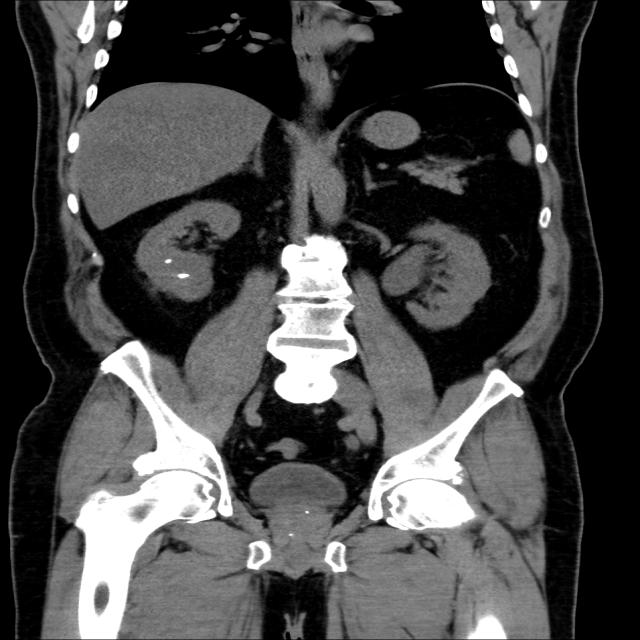kidneystone: (164, 259, 173, 264)
